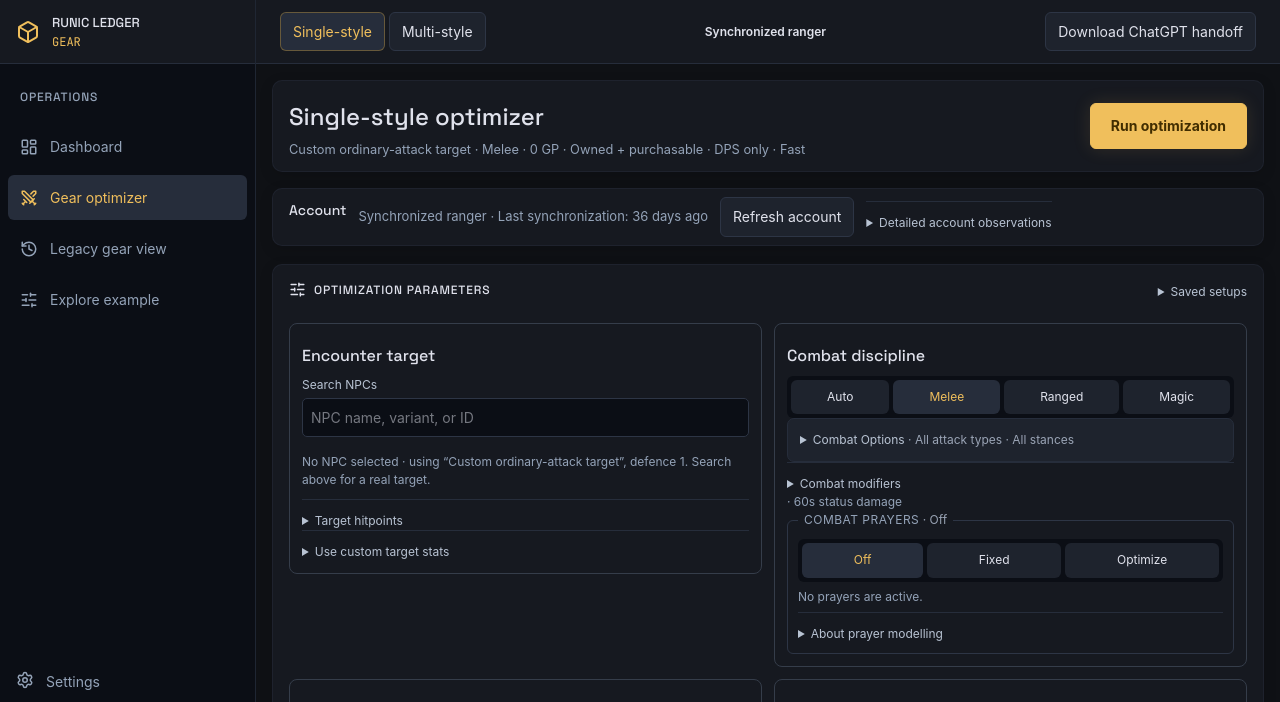
announces optimization progress in a status region while a run is pending
This screenshot has width=1280, height=702.
Step 1. Click the button "Run optimization" → (1168, 126), box [1090,103,1247,149]
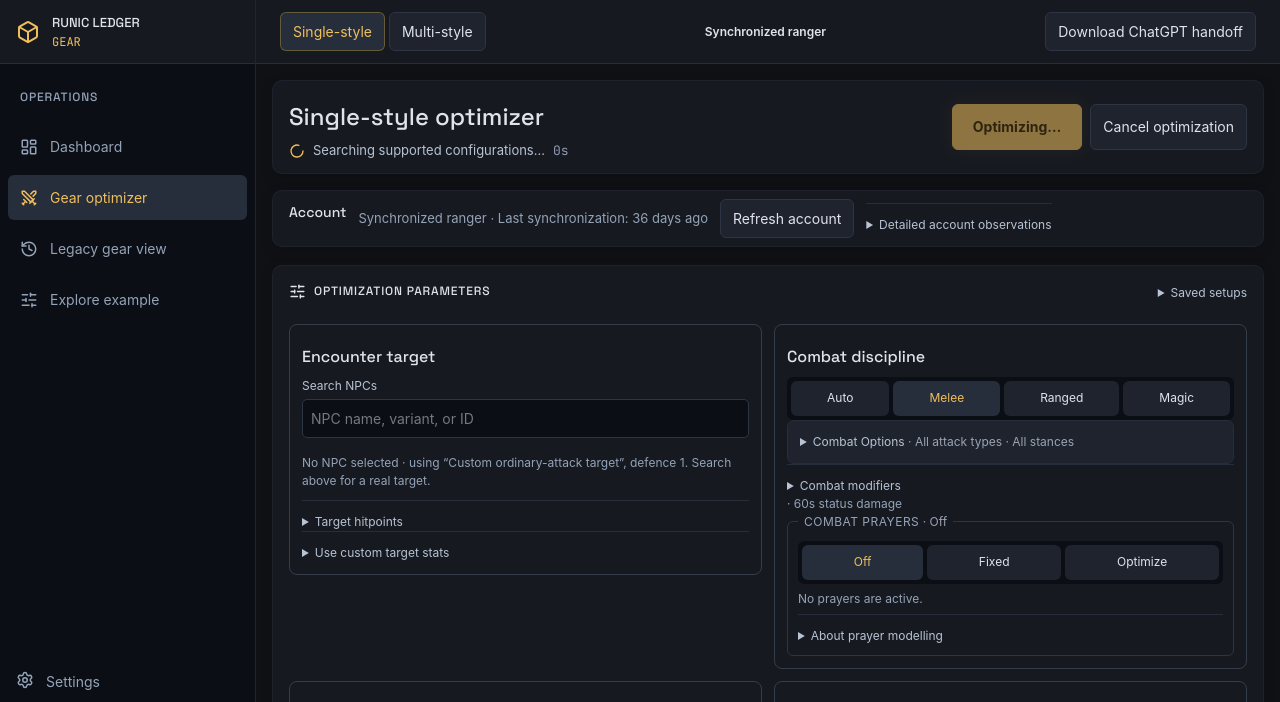
Expected: the message named "Optimization progress" shows "Searching supported configurations", [313,142,545,158]
